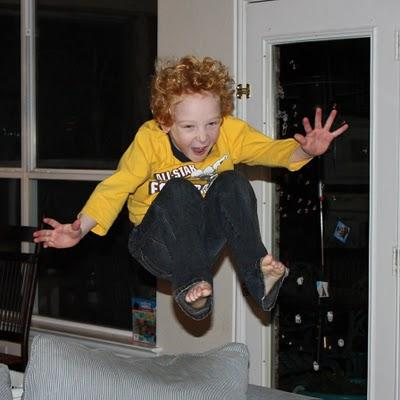person: (34, 58, 348, 323)
